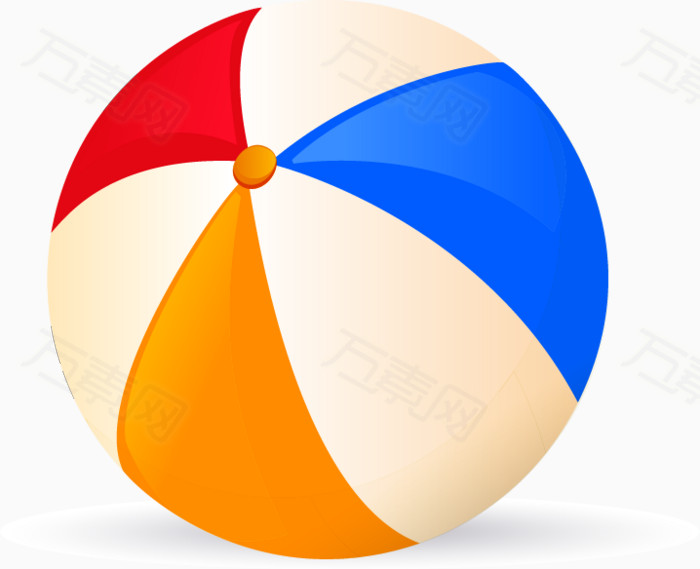ball: (47, 1, 607, 560)
